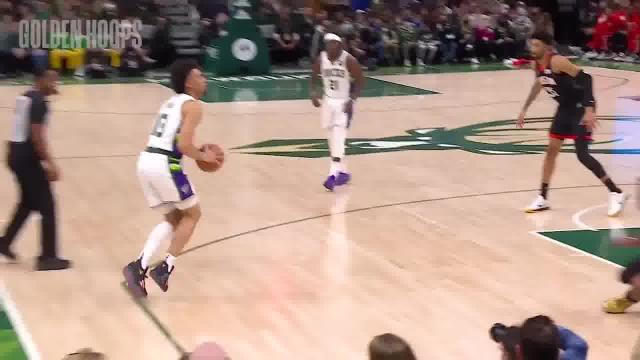ball-handler: (123, 60, 226, 301)
player: (517, 29, 632, 215), (311, 29, 364, 191)
